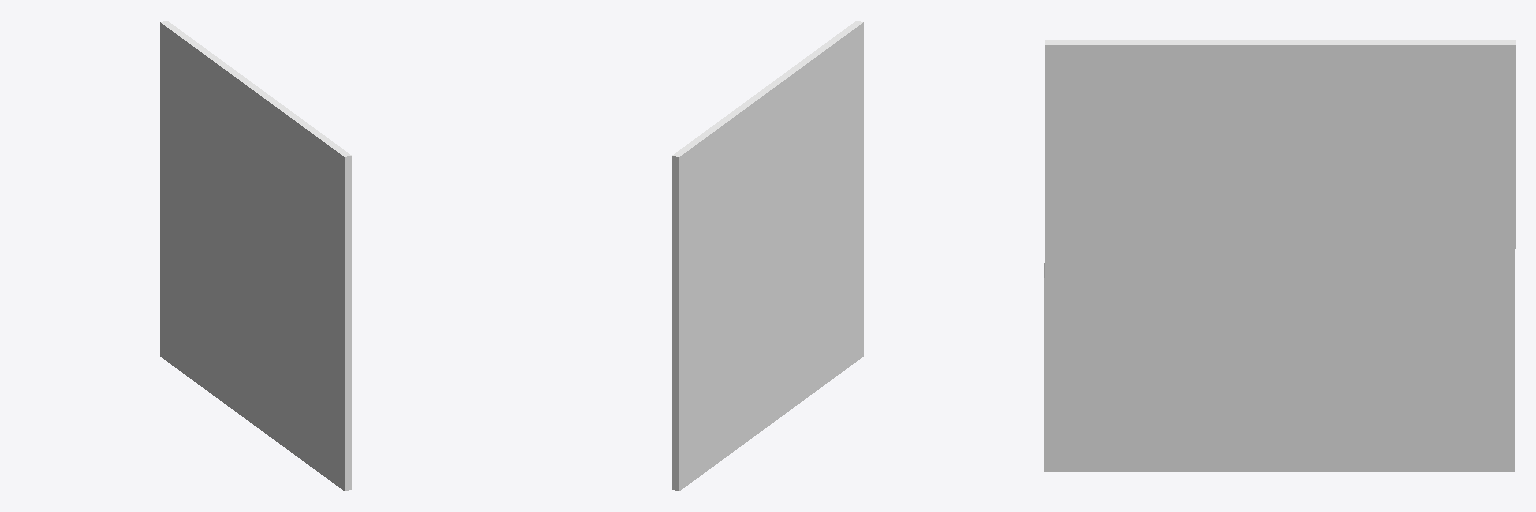
URDF robot description (gen3_robotiq_2f_85):
<?xml version="1.0" ?>
<!-- =================================================================================== -->
<!-- |    This document was autogenerated by xacro from gen3_robotiq_2f_85.xacro       | -->
<!-- |    EDITING THIS FILE BY HAND IS NOT RECOMMENDED                                 | -->
<!-- =================================================================================== -->
<robot name="gen3_robotiq_2f_85">
  <!-- Run the macros -->
  <link name="base">
    <inertial>
      <origin rpy="0 0 0" xyz="-0.000648 -0.000166 0.084487"/>
      <mass value="1.697"/>
      <inertia ixx="0.004622" ixy="9E-06" ixz="6E-05" iyy="0.004495" iyz="9E-06" izz="0.002079"/>
    </inertial>
    <visual>
      <origin rpy="0 0 0" xyz="0 0 0"/>
      <geometry>
        <mesh filename="meshes/base_link.obj"/>
      </geometry>
      <material name="">
        <color rgba="0.75294 0.75294 0.75294 1"/>
      </material>
    </visual>
    <collision>
      <origin rpy="0 0 0" xyz="0 0 0"/>
      <geometry>
        <mesh filename="meshes/base_link.obj"/>
      </geometry>
    </collision>
  </link>

  <link name="shoulder_link">
    <inertial>
      <origin rpy="0 0 0" xyz="-2.3E-05 -0.010364 -0.07336"/>
      <mass value="1.3773"/>
      <inertia ixx="0.00457" ixy="1E-06" ixz="2E-06" iyy="0.004831" iyz="0.000448" izz="0.001409"/>
    </inertial>
    <visual>
      <origin rpy="0 0 0" xyz="0 0 0"/>
      <geometry>
        <mesh filename="meshes/shoulder_link.obj"/>
      </geometry>
      <material name="">
        <color rgba="0.75294 0.75294 0.75294 1"/>
      </material>
    </visual>
    <collision>
      <origin rpy="0 0 0" xyz="0 0 0"/>
      <geometry>
        <mesh filename="meshes/shoulder_link.obj"/>
      </geometry>
    </collision>
  </link>

  <joint name="joint_1" type="continuous">
    <origin rpy="3.1416 2.7629E-18 -4.9305E-36" xyz="0 0 0.15643"/>
    <parent link="base"/>
    <child link="shoulder_link"/>
    <axis xyz="0 0 1"/>
    <limit effort="39" velocity="1.3963"/>
  </joint>

  <link name="half_arm_1_link">
    <inertial>
      <origin rpy="0 0 0" xyz="-4.4E-05 -0.09958 -0.013278"/>
      <mass value="1.1636"/>
      <inertia ixx="0.011088" ixy="5E-06" ixz="0" iyy="0.001072" iyz="-0.000691" izz="0.011255"/>
    </inertial>
    <visual>
      <origin rpy="0 0 0" xyz="0 0 0"/>
      <geometry>
        <mesh filename="meshes/half_arm_1_link.obj"/>
      </geometry>
      <material name="">
        <color rgba="0.75294 0.75294 0.75294 1"/>
      </material>
    </visual>
    <collision>
      <origin rpy="0 0 0" xyz="0 0 0"/>
      <geometry>
        <mesh filename="meshes/half_arm_1_link.obj"/>
      </geometry>
    </collision>
  </link>

  <joint name="joint_2" type="revolute">
    <origin rpy="1.5708 2.1343E-17 -1.1102E-16" xyz="0 0.005375 -0.12838"/>
    <parent link="shoulder_link"/>
    <child link="half_arm_1_link"/>
    <axis xyz="0 0 1"/>
    <limit effort="39" lower="-2.41" upper="2.41" velocity="1.3963"/>
  </joint>

  <link name="half_arm_2_link">
    <inertial>
      <origin rpy="0 0 0" xyz="-4.4E-05 -0.006641 -0.117892"/>
      <mass value="1.1636"/>
      <inertia ixx="0.010932" ixy="0" ixz="-7E-06" iyy="0.011127" iyz="0.000606" izz="0.001043"/>
    </inertial>
    <visual>
      <origin rpy="0 0 0" xyz="0 0 0"/>
      <geometry>
        <mesh filename="meshes/half_arm_2_link.obj"/>
      </geometry>
      <material name="">
        <color rgba="0.75294 0.75294 0.75294 1"/>
      </material>
    </visual>
    <collision>
      <origin rpy="0 0 0" xyz="0 0 0"/>
      <geometry>
        <mesh filename="meshes/half_arm_2_link.obj"/>
      </geometry>
    </collision>
  </link>

  <joint name="joint_3" type="continuous">
    <origin rpy="-1.5708 1.2326E-32 -2.9122E-16" xyz="0 -0.21038 -0.006375"/>
    <parent link="half_arm_1_link"/>
    <child link="half_arm_2_link"/>
    <axis xyz="0 0 1"/>
    <limit effort="39" velocity="1.3963"/>
  </joint>

  <link name="forearm_link">
    <inertial>
      <origin rpy="0 0 0" xyz="-1.8E-05 -0.075478 -0.015006"/>
      <mass value="0.9302"/>
      <inertia ixx="0.008147" ixy="-1E-06" ixz="0" iyy="0.000631" iyz="-0.0005" izz="0.008316"/>
    </inertial>
    <visual>
      <origin rpy="0 0 0" xyz="0 0 0"/>
      <geometry>
        <mesh filename="meshes/forearm_link.obj"/>
      </geometry>
      <material name="">
        <color rgba="0.75294 0.75294 0.75294 1"/>
      </material>
    </visual>
    <collision>
      <origin rpy="0 0 0" xyz="0 0 0"/>
      <geometry>
        <mesh filename="meshes/forearm_link.obj"/>
      </geometry>
    </collision>
  </link>

  <joint name="joint_4" type="revolute">
    <origin rpy="1.5708 -6.6954E-17 -1.6653E-16" xyz="0 0.006375 -0.21038"/>
    <parent link="half_arm_2_link"/>
    <child link="forearm_link"/>
    <axis xyz="0 0 1"/>
    <limit effort="39" lower="-2.66" upper="2.66" velocity="1.3963"/>
  </joint>

  <link name="spherical_wrist_1_link">
    <inertial>
      <origin rpy="0 0 0" xyz="1E-06 -0.009432 -0.063883"/>
      <mass value="0.6781"/>
      <inertia ixx="0.001596" ixy="0" ixz="0" iyy="0.001607" iyz="0.000256" izz="0.000399"/>
    </inertial>
    <visual>
      <origin rpy="0 0 0" xyz="0 0 0"/>
      <geometry>
        <mesh filename="meshes/spherical_wrist_1_link.obj"/>
      </geometry>
      <material name="">
        <color rgba="0.75294 0.75294 0.75294 1"/>
      </material>
    </visual>
    <collision>
      <origin rpy="0 0 0" xyz="0 0 0"/>
      <geometry>
        <mesh filename="meshes/spherical_wrist_1_link.obj"/>
      </geometry>
    </collision>
  </link>

  <joint name="joint_5" type="continuous">
    <origin rpy="-1.5708 2.2204E-16 -6.373E-17" xyz="0 -0.20843 -0.006375"/>
    <parent link="forearm_link"/>
    <child link="spherical_wrist_1_link"/>
    <axis xyz="0 0 1"/>
    <limit effort="9" velocity="1.2218"/>
  </joint>

  <link name="spherical_wrist_2_link">
    <inertial>
      <origin rpy="0 0 0" xyz="1E-06 -0.045483 -0.00965"/>
      <mass value="0.6781"/>
      <inertia ixx="0.001641" ixy="0" ixz="0" iyy="0.00041" iyz="-0.000278" izz="0.001641"/>
    </inertial>
    <visual>
      <origin rpy="0 0 0" xyz="0 0 0"/>
      <geometry>
        <mesh filename="meshes/spherical_wrist_2_link.obj"/>
      </geometry>
      <material name="">
        <color rgba="0.75294 0.75294 0.75294 1"/>
      </material>
    </visual>
    <collision>
      <origin rpy="0 0 0" xyz="0 0 0"/>
      <geometry>
        <mesh filename="meshes/spherical_wrist_2_link.obj"/>
      </geometry>
    </collision>
  </link>

  <joint name="joint_6" type="revolute">
    <origin rpy="1.5708 9.2076E-28 -8.2157E-15" xyz="0 0.00017505 -0.10593"/>
    <parent link="spherical_wrist_1_link"/>
    <child link="spherical_wrist_2_link"/>
    <axis xyz="0 0 1"/>
    <limit effort="9" lower="-2.23" upper="2.23" velocity="1.2218"/>
  </joint>

  <link name="bracelet_link">
    <inertial>
      <!-- This is different from the documentation -->
      <origin rpy="0 0 0" xyz="0.000281 0.011402 -0.029798"/>
      <mass value="0.5"/>
      <inertia ixx="0.000587" ixy="3E-06" ixz="3E-06" iyy="0.000369" iyz="-0.000118" izz="0.000609"/>
    </inertial>
    <visual>
      <origin rpy="0 0 0" xyz="0 0 0"/>
      <geometry>
        <mesh filename="meshes/bracelet_with_vision_link.obj"/>
      </geometry>
      <material name="">
        <color rgba="0.75294 0.75294 0.75294 1"/>
      </material>
    </visual>
    <collision>
      <origin rpy="0 0 0" xyz="0 0 0"/>
      <geometry>
        <mesh filename="meshes/bracelet_with_vision_link.obj"/>
      </geometry>
    </collision>
  </link>

  <joint name="joint_7" type="continuous">
    <origin rpy="-1.5708 -5.5511E-17 9.6396E-17" xyz="0 -0.10593 -0.00017505"/>
    <parent link="spherical_wrist_2_link"/>
    <child link="bracelet_link"/>
    <axis xyz="0 0 1"/>
    <limit effort="9" velocity="1.2218"/>
  </joint>

  <!-- gripper code -->


  <joint name="gripper_base_joint" type="fixed">
    <!--
    <parent link="end_effector_link"/>
  -->
    <parent link="bracelet_link"/>
    <child link="gripper_base"/>
    <origin rpy="1.5707 0.0 0.0" xyz="0.0 0.0 -0.0615250000000001"/>
    <!-- 1.57 -->
  </joint>

  <link name="gripper_base">
    <inertial>
      <origin rpy="0 0 0" xyz="6.91E-06 4.4117E-06 0.031656"/>
      <mass value="0.60831"/>
      <inertia ixx="0.0004596" ixy="1.5559E-09" ixz="1.397E-07" iyy="0.0005181" iyz="-1.0325E-11" izz="0.00036051"/>
    </inertial>
    <visual>
      <origin rpy="0 0 0" xyz="0 0 0"/>
      <geometry>
        <mesh filename="meshes/base_of_gripper.obj"/>
      </geometry>
      <material name="">
        <color rgba="0.89804 0.91765 0.92941 0.25"/>
      </material>
    </visual>
    <collision>
      <origin rpy="0 0 0" xyz="0 0 0"/>
      <geometry>
        <mesh filename="meshes/base_of_gripper.obj"/>
      </geometry>
    </collision>
  </link>

  <!-- tray and object code -->


  <joint name="waiter_tray_joint" type="fixed">
     <origin rpy="0 1.5707 0" xyz="0 -0.14948 0" />
     <parent link="gripper_base" />
     <child link="waiter_tray_link" />
  </joint>

  <!-- need to add known inertia values. assumed that the joint is aligned with the 
  principal axes of the tray. Currently assuming that the tray is grasped at the 
  COM? Need to change so that there is ixy etc? -->

  <link name="waiter_tray_link">
    <inertial>
      <origin rpy="0 0 0" xyz="0 -0.05717 0" />
      <mass value="0.04394" /> <!-- updated: printed tray is 1.55 ounces, including tracking markers -->
      <inertia ixx="0.00003615" ixy="0" ixz="0" iyy="0.00003615" iyz="0" izz="0.00007225" /> <!-- updated -->
    </inertial>
    <visual>
      <origin rpy="0 0 0" xyz="0 0 0"/>
      <geometry>
        <mesh filename="meshes/plate_shifted_scaled_origin_v3.obj" />
          <!-- scale="0.001 0.001 0.001" -->
      </geometry>
      <material name="">
      <color rgba="1 1 1 1" />
      </material>
    </visual>
    <collision>
      <origin rpy="0 0 0" xyz="0 0 0"/>
      <geometry>
        <mesh filename="meshes/plate_shifted_scaled_origin_v3.obj" />
          <!-- scale="0.001 0.001 0.001" -->
      </geometry>
    </collision>
  </link>

</robot>

--- Facts derived from the render (not from the file) ---
Views: 3 orthographic renders of the robot side by side, from view 1: azimuth 30°, elevation 25°; view 2: azimuth 150°, elevation 25°; view 3: azimuth 270°, elevation 25°.
Robot: gen3_robotiq_2f_85 — 10 links, 9 joints (3 revolute, 4 continuous, 2 fixed); root link base; default pose: every joint at zero.
Links seen in each view (by area): view 1: waiter_tray_link; view 2: waiter_tray_link; view 3: waiter_tray_link.
Boxes of the visible links, x1,y1,x2,y2 form: waiter_tray_link: (160, 21, 351, 490); waiter_tray_link: (672, 21, 863, 490); waiter_tray_link: (1044, 40, 1515, 471).
Size in the robot's own frame: 0.0026 by 0.1143 by 0.1143 metres.
Meshes: 10 distinct files referenced, 1 mesh visuals loaded (1 OBJ); not drawn: 9 (reference not matched to a file when rendering).